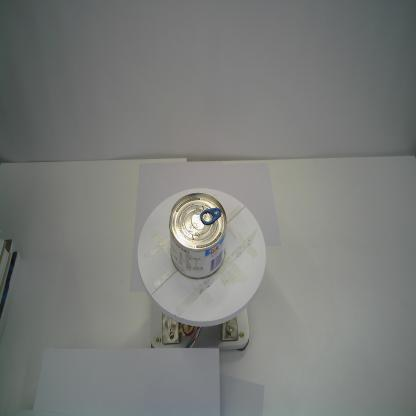Canned Food: (168, 192, 228, 280)
